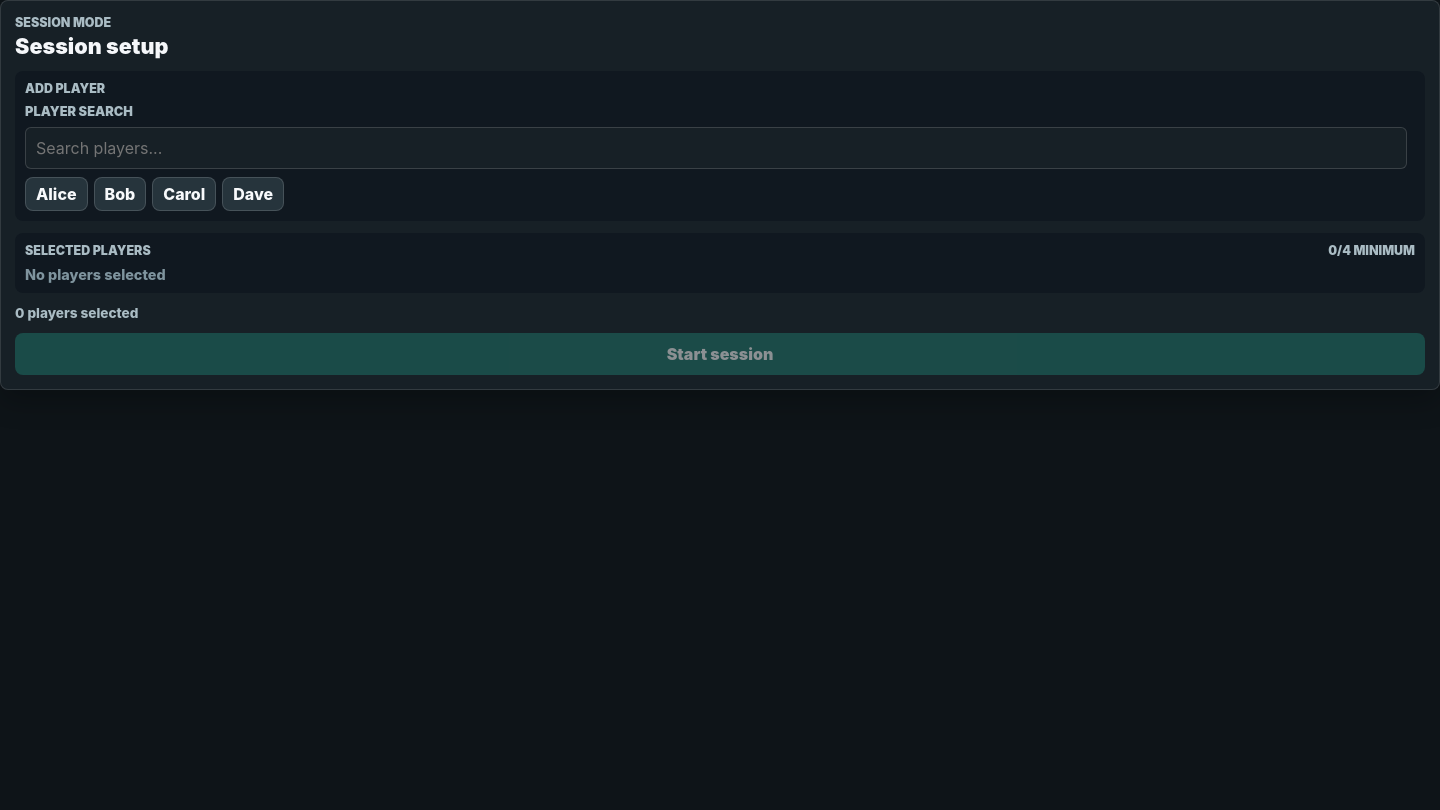
SessionSetup › adds a player from search result chips and enables Start after 4 players
The image size is (1440, 810).
Click the button "Alice" at (56, 194), box [25, 177, 88, 211]
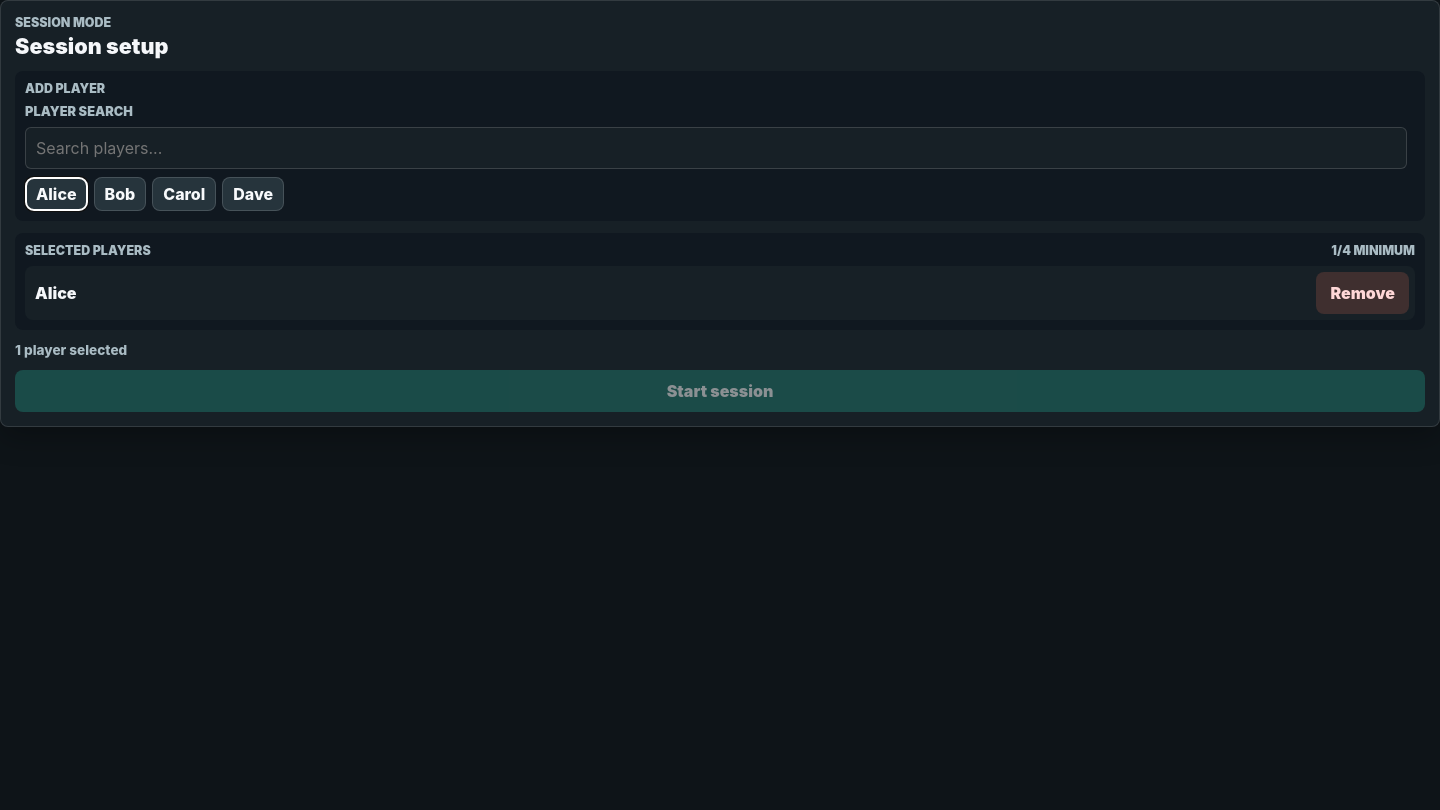
Click the button "Bob" at (120, 194), box [94, 177, 146, 211]
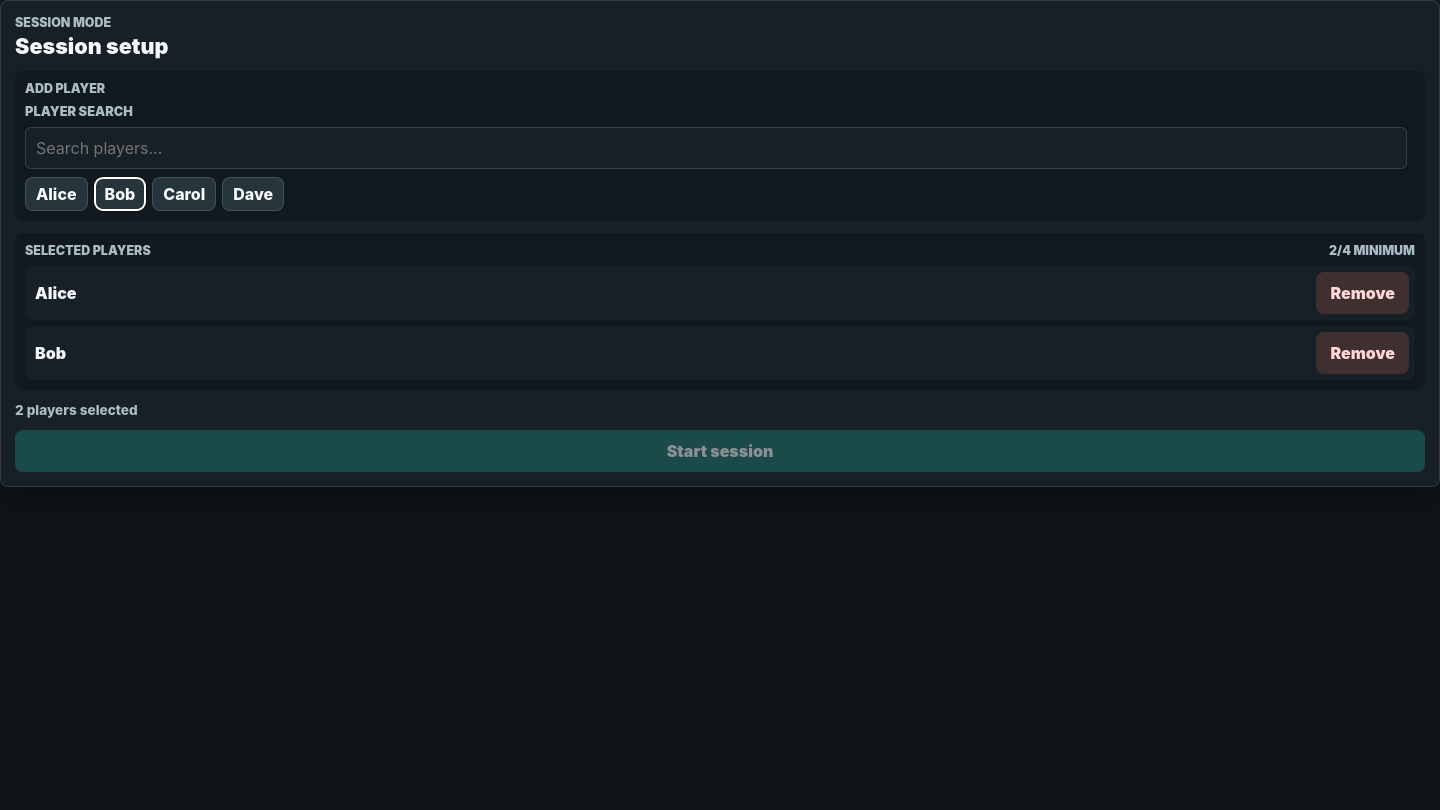
Click the button "Carol" at (184, 194), box [152, 177, 216, 211]
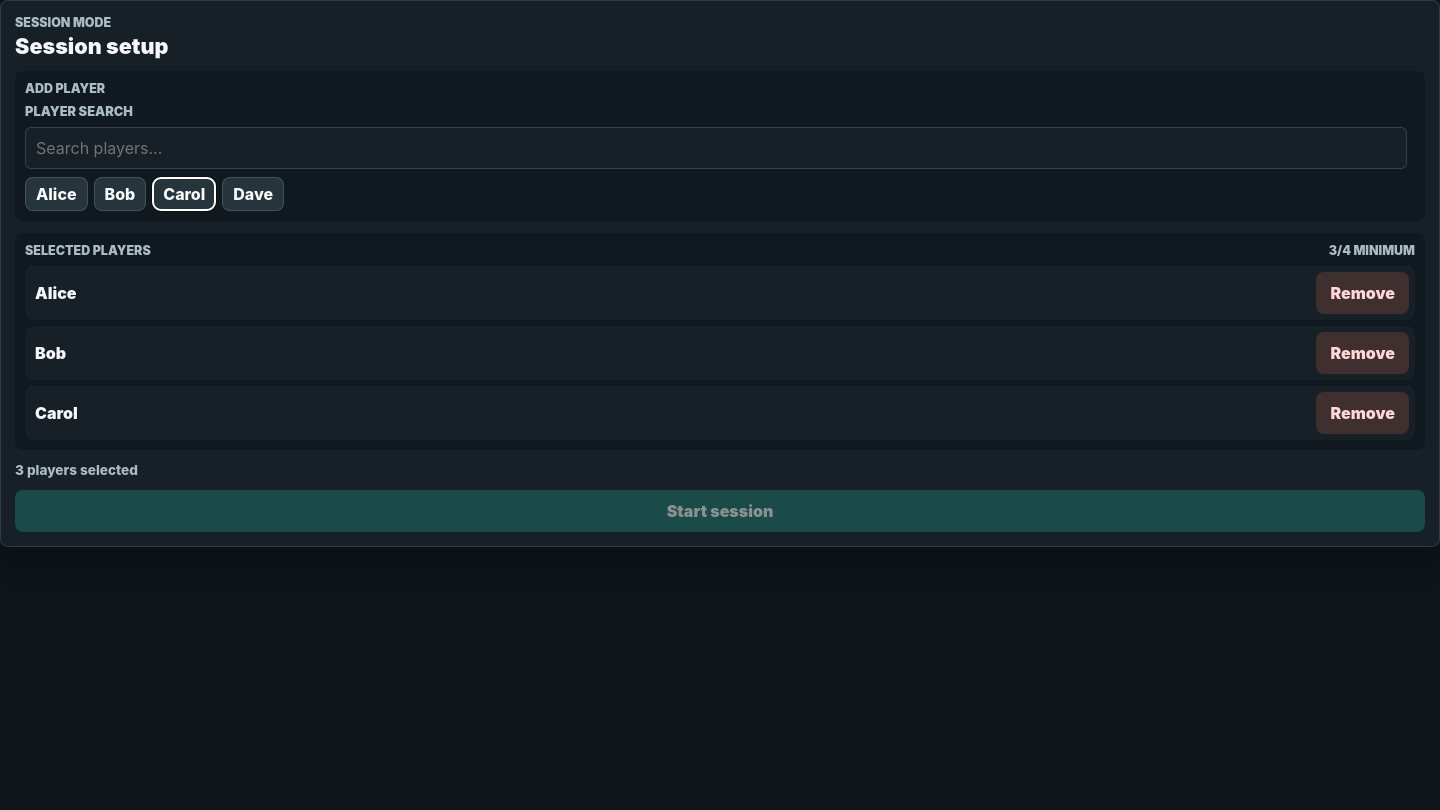
Click the button "Dave" at (253, 194), box [222, 177, 284, 211]
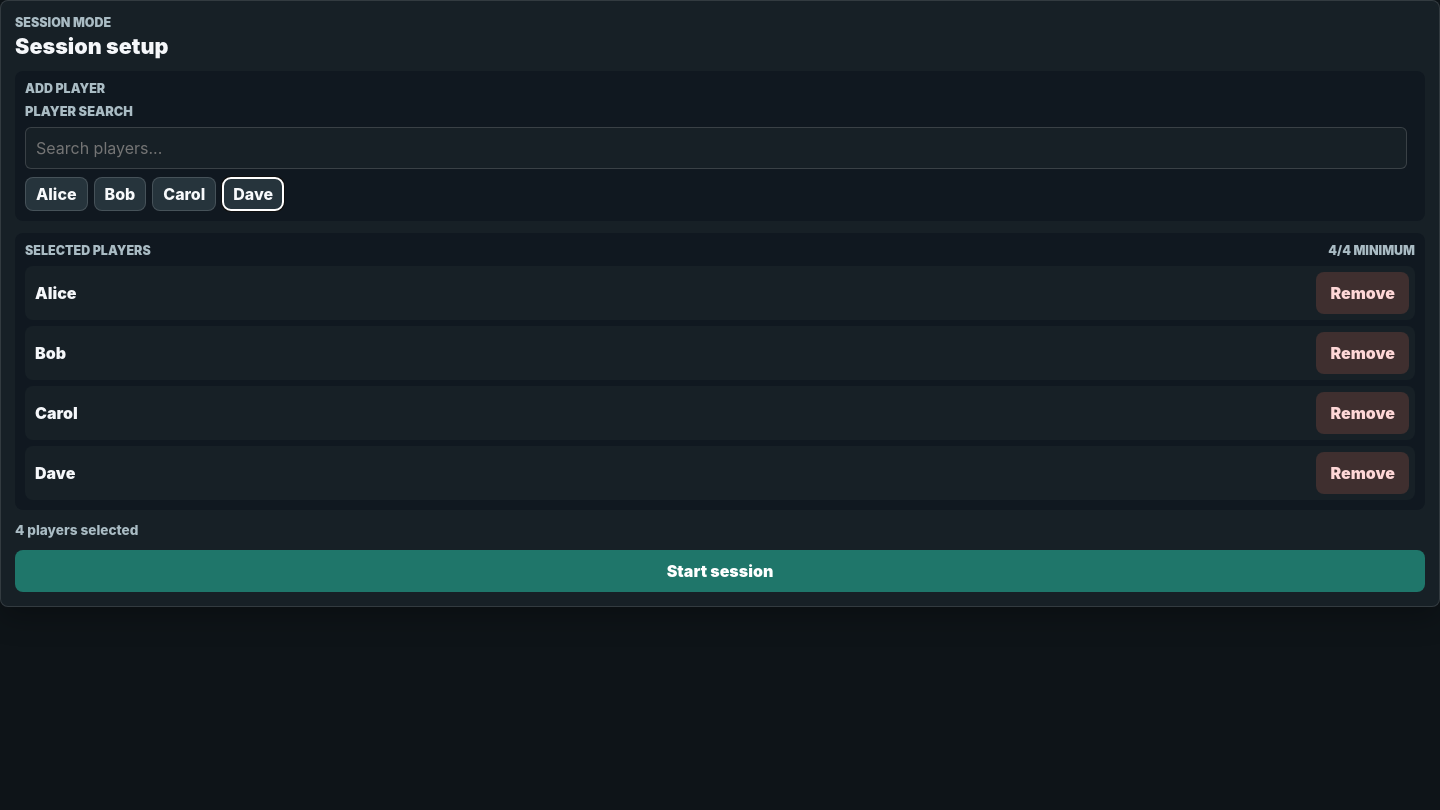
Expected: the button "Start session" is enabled, [15, 550, 1425, 592]
